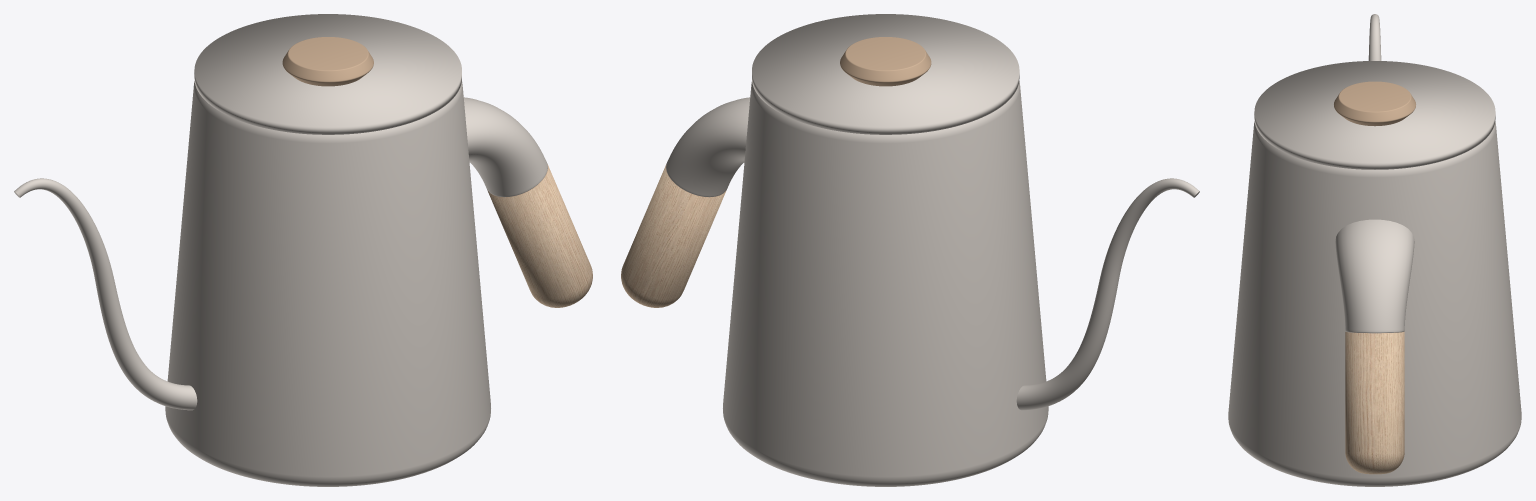
File: kettle.glb
3 views of the same model, side by side, from view 1: azimuth 30°, elevation 25°; view 2: azimuth 150°, elevation 25°; view 3: azimuth 270°, elevation 25° (orthographic). The views are drawn at different scales.
Visible parts, largest first — view 1: kettle_body, kettle_lid, kettle_wooden_handle, kettle_spout, handle_connector, wood_knob; view 2: kettle_body, kettle_lid, kettle_wooden_handle, kettle_spout, handle_connector, wood_knob; view 3: kettle_body, kettle_lid, kettle_wooden_handle, handle_connector, wood_knob, kettle_spout.
Boxes of the visible parts, box(x1,y1,x2,y2) form: kettle_body: box(165, 81, 490, 486); kettle_lid: box(194, 14, 461, 134); kettle_wooden_handle: box(487, 164, 592, 307); kettle_spout: box(14, 178, 197, 410); handle_connector: box(463, 97, 547, 197); wood_knob: box(282, 37, 373, 86); kettle_body: box(723, 81, 1048, 486); kettle_lid: box(752, 14, 1019, 134); kettle_wooden_handle: box(621, 164, 726, 307); kettle_spout: box(1016, 178, 1199, 410); handle_connector: box(666, 97, 750, 197); wood_knob: box(840, 37, 931, 86); kettle_body: box(1228, 121, 1521, 486); kettle_lid: box(1254, 61, 1495, 169); kettle_wooden_handle: box(1345, 331, 1404, 474); handle_connector: box(1335, 219, 1414, 333); wood_knob: box(1334, 81, 1415, 126); kettle_spout: box(1368, 14, 1381, 60).
Size of the model in its own units: 23.04 by 14.2 by 11.34.
Materials: 2 (1 with a texture image).
